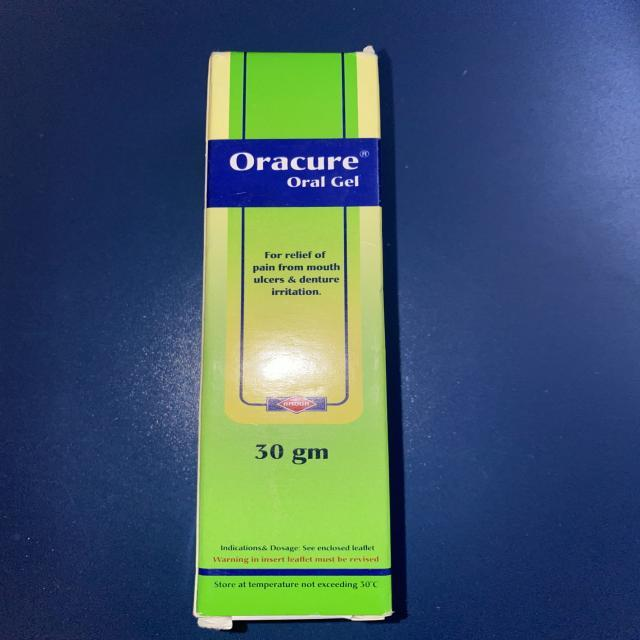Medicine Name: (228, 149, 363, 177)
